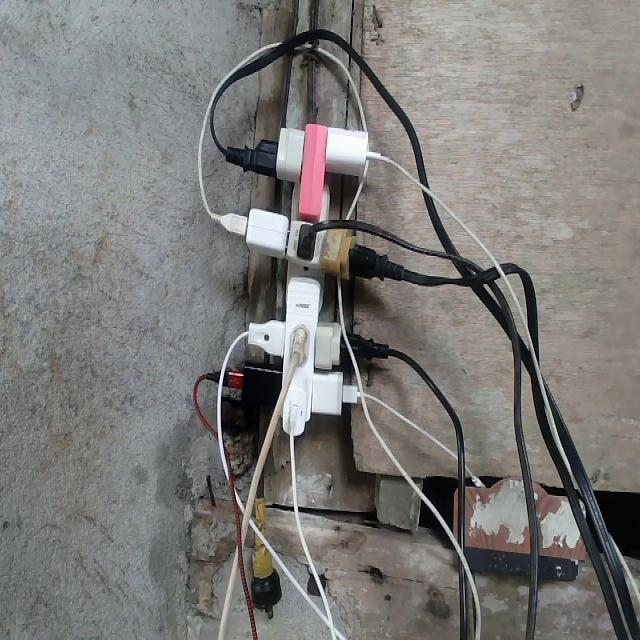-: (233, 121, 372, 438)
